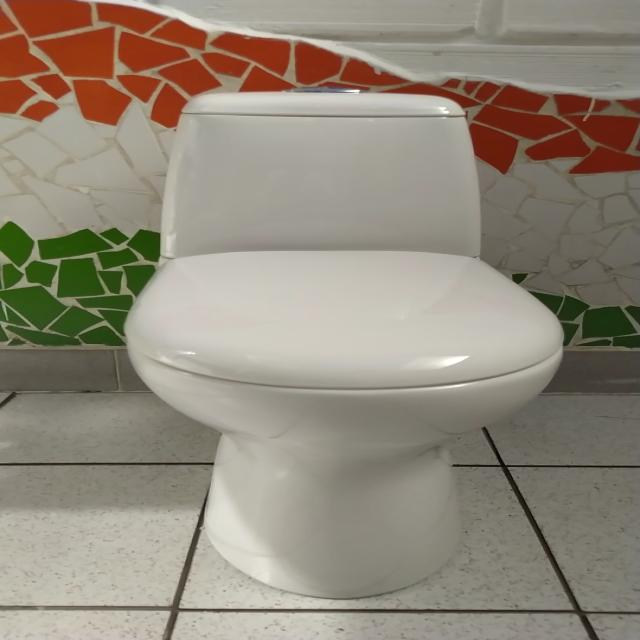toilet: (122, 88, 565, 599)
